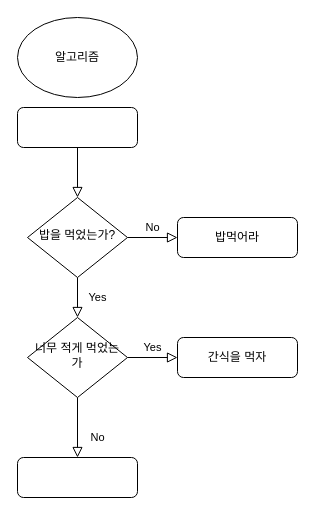
Image size: 315x515. Some labels were removed from this diagram. The box of each missing label's shape, as (x1, y1, x2, y2) in pixels:
배고프다: (16, 106, 138, 148)
참아라.: (16, 456, 138, 498)
